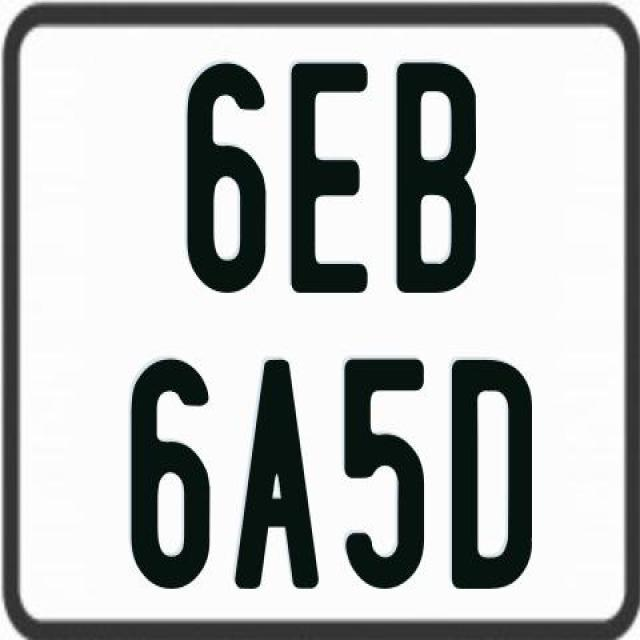5: (344, 357, 424, 596)
6: (183, 61, 269, 294), (129, 357, 212, 596)
A: (232, 355, 322, 587)
B: (393, 61, 478, 292)
D: (452, 358, 540, 597)
E: (290, 61, 376, 301)
